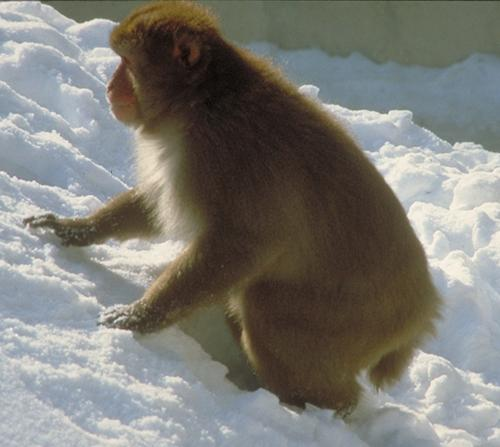monkey: (38, 0, 443, 423)
